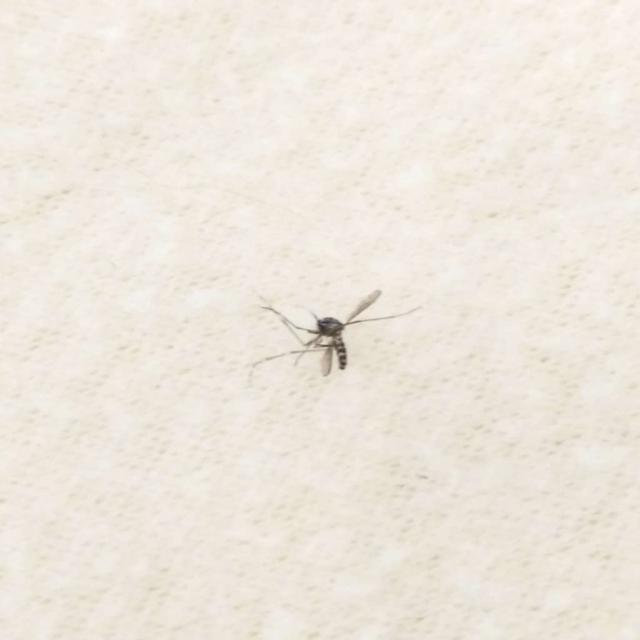albopictus: (254, 283, 420, 377)
